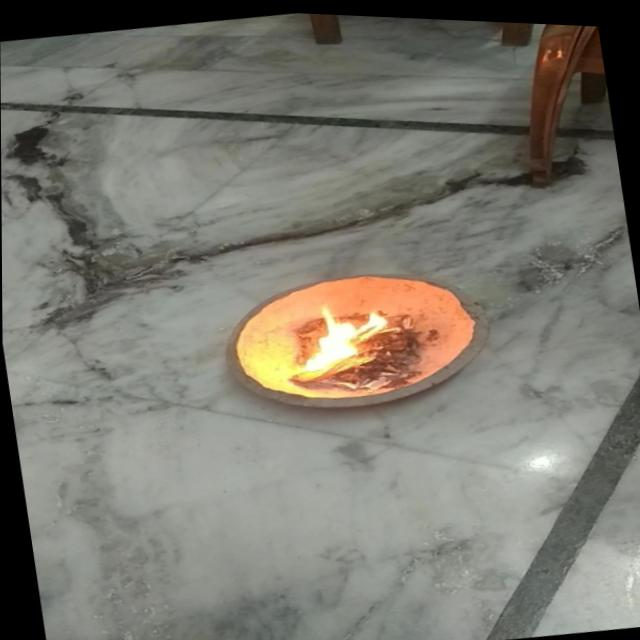fire: (282, 283, 403, 382)
